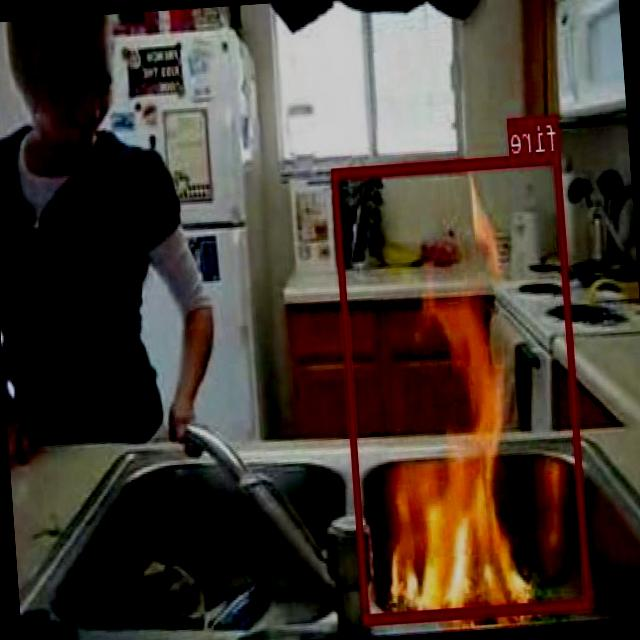fire: (334, 152, 592, 622)
